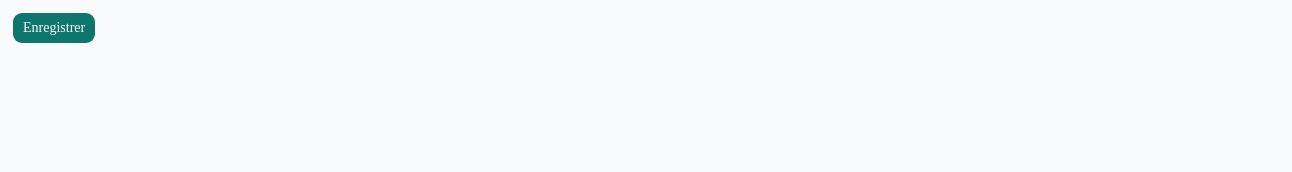
Test case: bandeau de confirmation (flash) › ActionForm pousse le succès au bandeau sans doubler la confirmation en place
Click the button "Enregistrer" at coordinates (54, 28), box [12, 12, 96, 44]
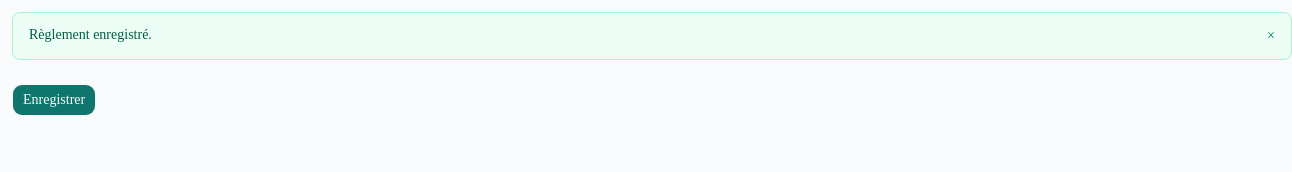
Expected: the message shows "Règlement enregistré.", [29, 27, 152, 42]
Expected: the text "Règlement enregistré." is shown once, [29, 25, 152, 45]
